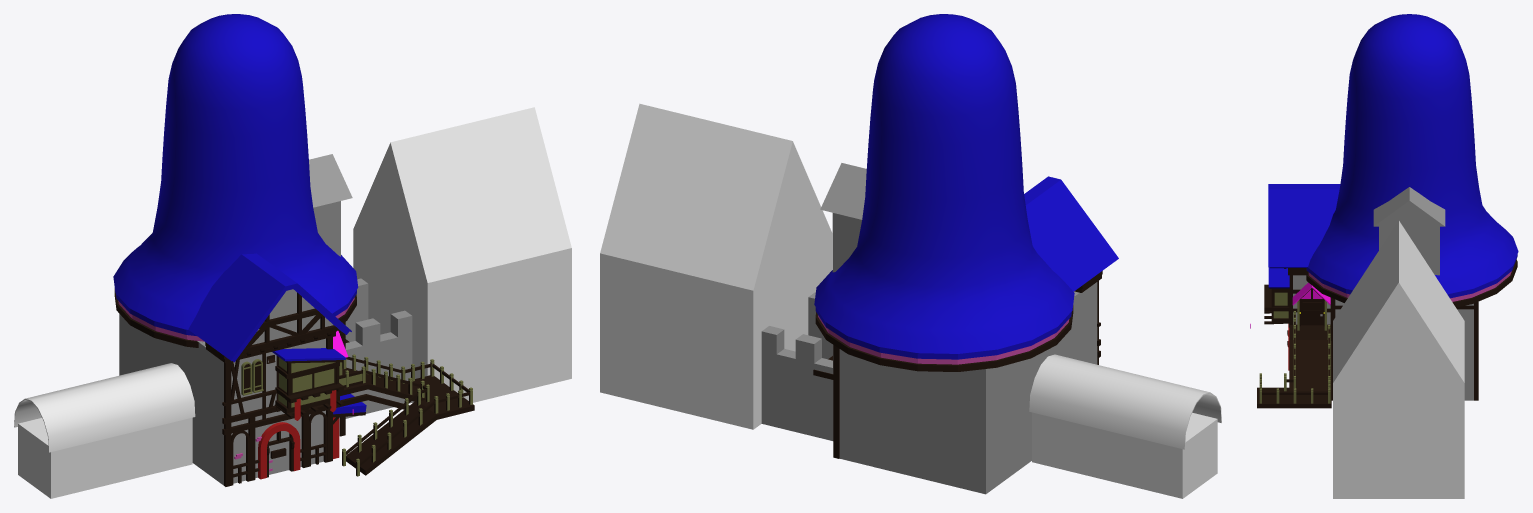
The model's file is WindmilDummy_1002.fbx.
3 renders of one model, left to right at view 1: azimuth 30°, elevation 25°; view 2: azimuth 150°, elevation 25°; view 3: azimuth 270°, elevation 25°, orthographic. The views are drawn at different scales.
Parts seen in each view (by area): view 1: Object001, Side_dummy_build_roof, Side_build, roof, 1f_base, Win_LeftRoof, Win_left01, Object031, Object029, Fence, Object016, Object003 (+5 smaller); view 2: Object001, Side_dummy_build_roof, Side_build, 1f_base, Win_LeftRoof, Win_left01, Object032, roof, Win_Right01, Object004, Object003, Object006 (+3 smaller); view 3: Object001, Side_build, Side_dummy_build_roof, roof, Object016, Object003, Object002, Win_Right01, Object004, Fence, Object029, Object006 (+5 smaller).
Part boxes in pixels (x1,y1,x2,y2): Object001: (113, 14, 358, 329); Side_dummy_build_roof: (353, 107, 571, 282); Side_build: (353, 229, 571, 402); roof: (188, 253, 365, 486); 1f_base: (119, 314, 325, 485); Win_LeftRoof: (14, 363, 195, 452); Win_left01: (18, 417, 192, 498); Object031: (345, 310, 412, 418); Object029: (346, 391, 474, 475); Fence: (342, 354, 472, 476); Object016: (336, 367, 454, 409); Object003: (309, 154, 352, 207); Object001: (814, 14, 1074, 353); Side_dummy_build_roof: (600, 103, 831, 290); Side_build: (600, 233, 832, 429); 1f_base: (873, 282, 1097, 494); Win_LeftRoof: (1029, 354, 1221, 449); Win_left01: (1032, 412, 1217, 498); Object032: (761, 326, 833, 440); roof: (1024, 176, 1118, 364); Win_Right01: (839, 349, 872, 466); Object004: (815, 305, 1073, 371); Object003: (820, 163, 866, 219); Object006: (815, 307, 1071, 359); Object001: (1308, 14, 1518, 294); Side_build: (1333, 383, 1464, 498); Side_dummy_build_roof: (1333, 220, 1464, 383); roof: (1264, 184, 1340, 327); Object016: (1289, 324, 1331, 408); Object003: (1373, 187, 1445, 226); Object002: (1379, 226, 1439, 275); Win_Right01: (1335, 299, 1473, 400); Object004: (1306, 259, 1517, 307); Fence: (1259, 311, 1330, 403); Object029: (1257, 387, 1292, 408); Object006: (1306, 254, 1517, 298).
Bounding box in the file's own units: 3272 × 2443 × 1661.
